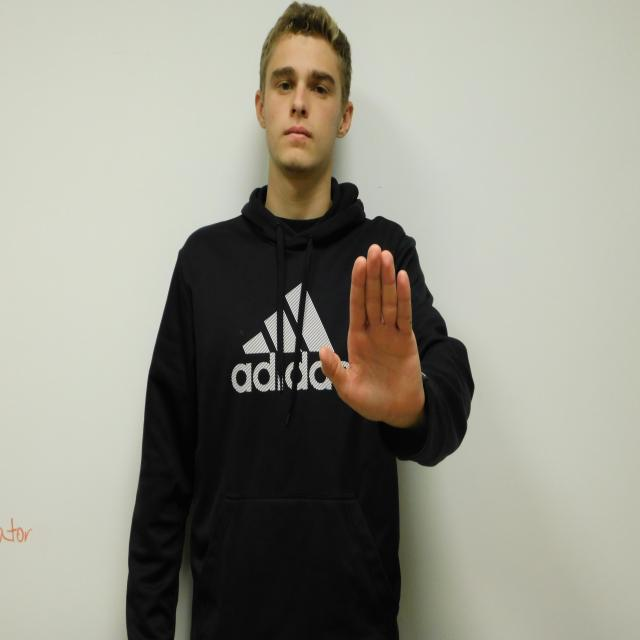your: (319, 244, 423, 422)
